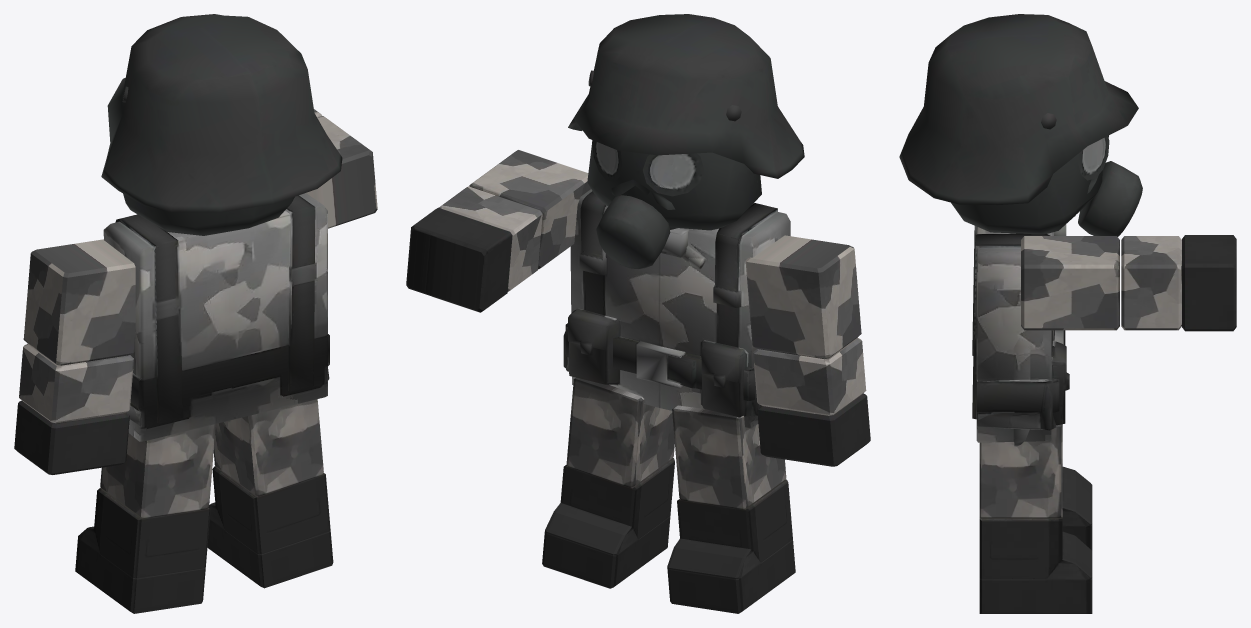
Rendered from zlol.glb.
The picture shows the model from 3 angles, left to right: view 1: azimuth 30°, elevation 25°; view 2: azimuth 150°, elevation 25°; view 3: azimuth 270°, elevation 25°; orthographic projection.
Parts seen in each view (by area): view 1: tripo_node_f80a4976-d328-475b-8211-61156bc160e3, tripo_node_408ac246-0d09-46b1-9efe-ee8b21cfdce2, Upper_arm, Boot, Boot.001, Trousers.001, Trousers, Forearm, Glove, Upper_arm.001; view 2: tripo_node_408ac246-0d09-46b1-9efe-ee8b21cfdce2, tripo_node_f80a4976-d328-475b-8211-61156bc160e3, Boot, Upper_arm, Boot.001, Trousers.001, Trousers, Glove.001, Forearm, Upper_arm.001, Glove, Forearm.001; view 3: tripo_node_408ac246-0d09-46b1-9efe-ee8b21cfdce2, tripo_node_f80a4976-d328-475b-8211-61156bc160e3, Boot.001, Upper_arm.001, Trousers.001, Forearm.001, Glove.001, Boot.
Part boxes in pixels (x1,y1,x2,y2): tripo_node_f80a4976-d328-475b-8211-61156bc160e3: (103,193,329,441); tripo_node_408ac246-0d09-46b1-9efe-ee8b21cfdce2: (101,14,342,235); Upper_arm: (23,239,135,365); Boot: (75,488,210,613); Boot.001: (207,466,333,588); Trousers.001: (213,399,323,496); Trousers: (100,424,215,518); Forearm: (19,344,133,423); Glove: (14,400,129,474); Upper_arm.001: (306,116,377,228); tripo_node_408ac246-0d09-46b1-9efe-ee8b21cfdce2: (568,14,804,268); tripo_node_f80a4976-d328-475b-8211-61156bc160e3: (563,189,790,428); Boot: (667,479,795,613); Upper_arm: (745,235,861,359); Boot.001: (542,458,674,588); Trousers.001: (566,377,674,487); Trousers: (672,405,786,509); Glove.001: (406,207,512,312); Forearm: (753,337,866,415); Upper_arm.001: (469,150,590,269); Glove: (757,393,870,466); Forearm.001: (439,186,542,291); tripo_node_408ac246-0d09-46b1-9efe-ee8b21cfdce2: (899,14,1142,236); tripo_node_f80a4976-d328-475b-8211-61156bc160e3: (972,224,1069,446); Boot.001: (979,517,1092,613); Upper_arm.001: (1021,236,1119,330); Trousers.001: (979,424,1062,517); Forearm.001: (1121,236,1181,330); Glove.001: (1182,235,1236,331); Boot: (1062,466,1092,550).
Bounding box in the file's own units: 1.33 × 2 × 1.14.
Materials: 6 (6 with a texture image).
